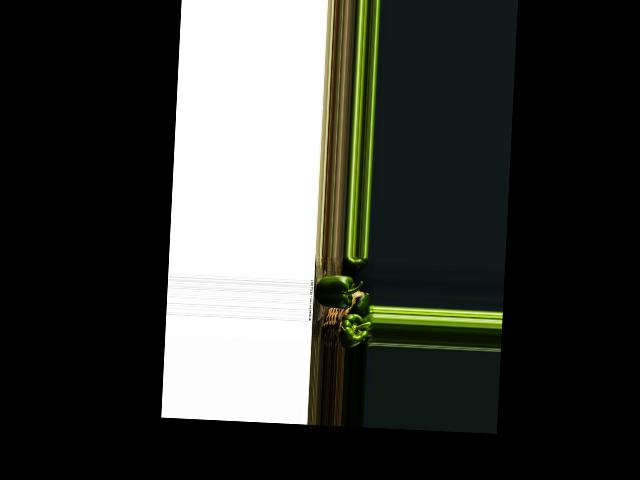bell_pepper: (346, 255, 367, 270)
